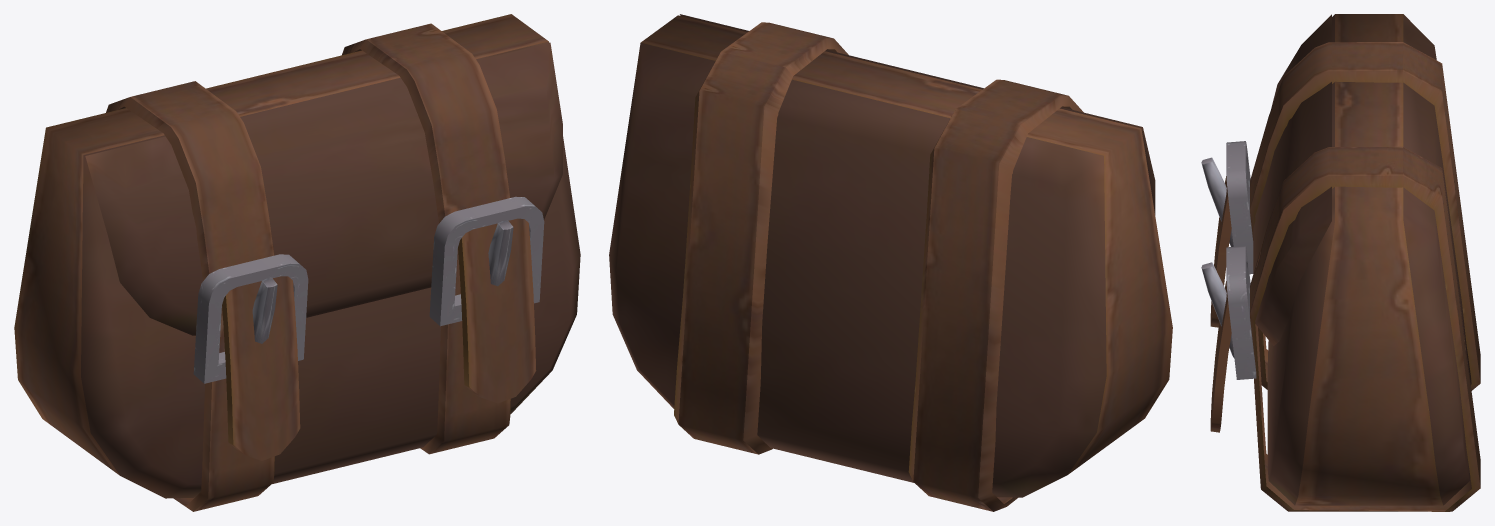
File: Pouch_Large.gltf
3 renders of one model, left to right at view 1: azimuth 30°, elevation 25°; view 2: azimuth 150°, elevation 25°; view 3: azimuth 270°, elevation 25°, orthographic. The views are drawn at different scales.
Visible parts, largest first — view 1: Pouch_Large; view 2: Pouch_Large; view 3: Pouch_Large.
Part boxes in pixels (left/top/right/bottom): Pouch_Large: left=14, top=14, right=580, bottom=511; Pouch_Large: left=609, top=14, right=1172, bottom=511; Pouch_Large: left=1201, top=14, right=1480, bottom=511.
Size of the model in its own units: 0.2255 by 0.1591 by 0.1198.
2 materials, 2 textured.
